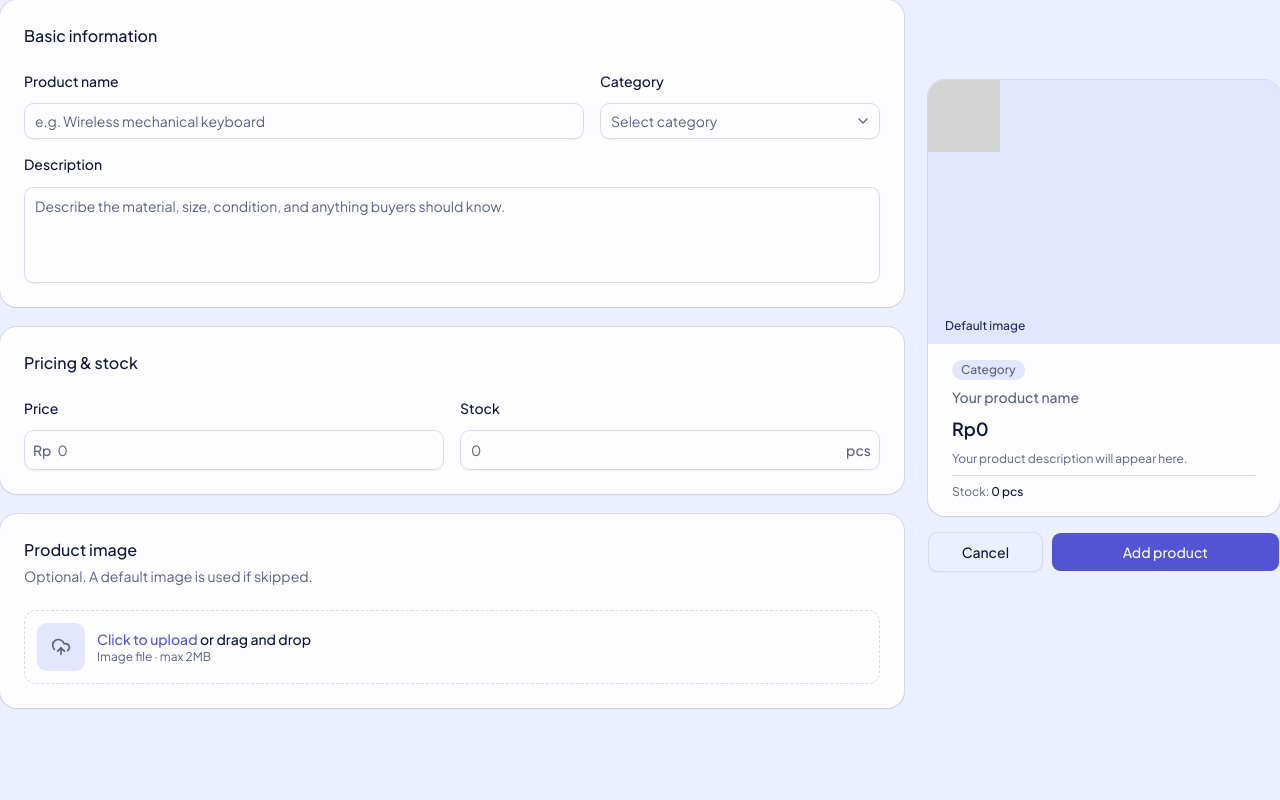
ProductForm: tambah produk › menolak nama dengan 5 karakter
Type "abcde" into the field labelled "Product name".
click(304, 121); type("abcde")  # box top-left (24, 103), bottom-right (584, 139)
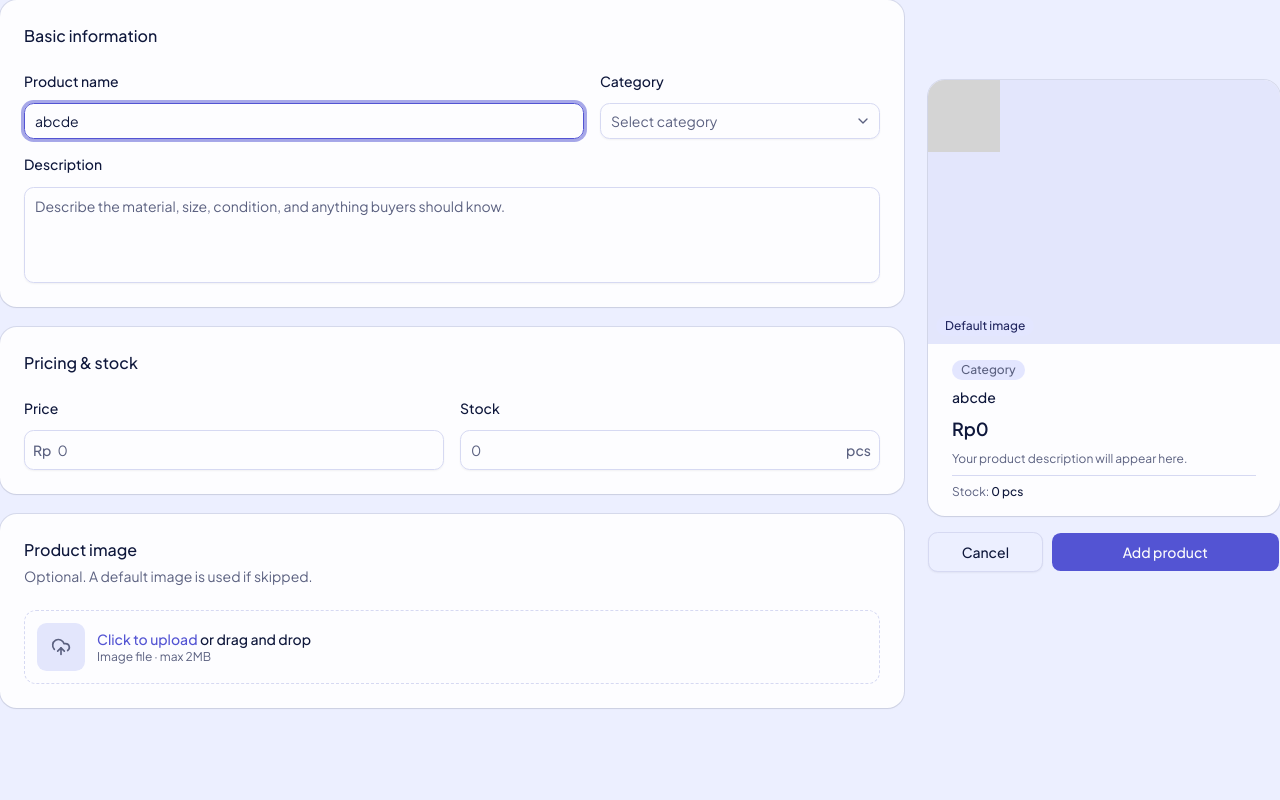
Click the button "Add product".
click(1165, 552)  # box top-left (1051, 532), bottom-right (1279, 572)
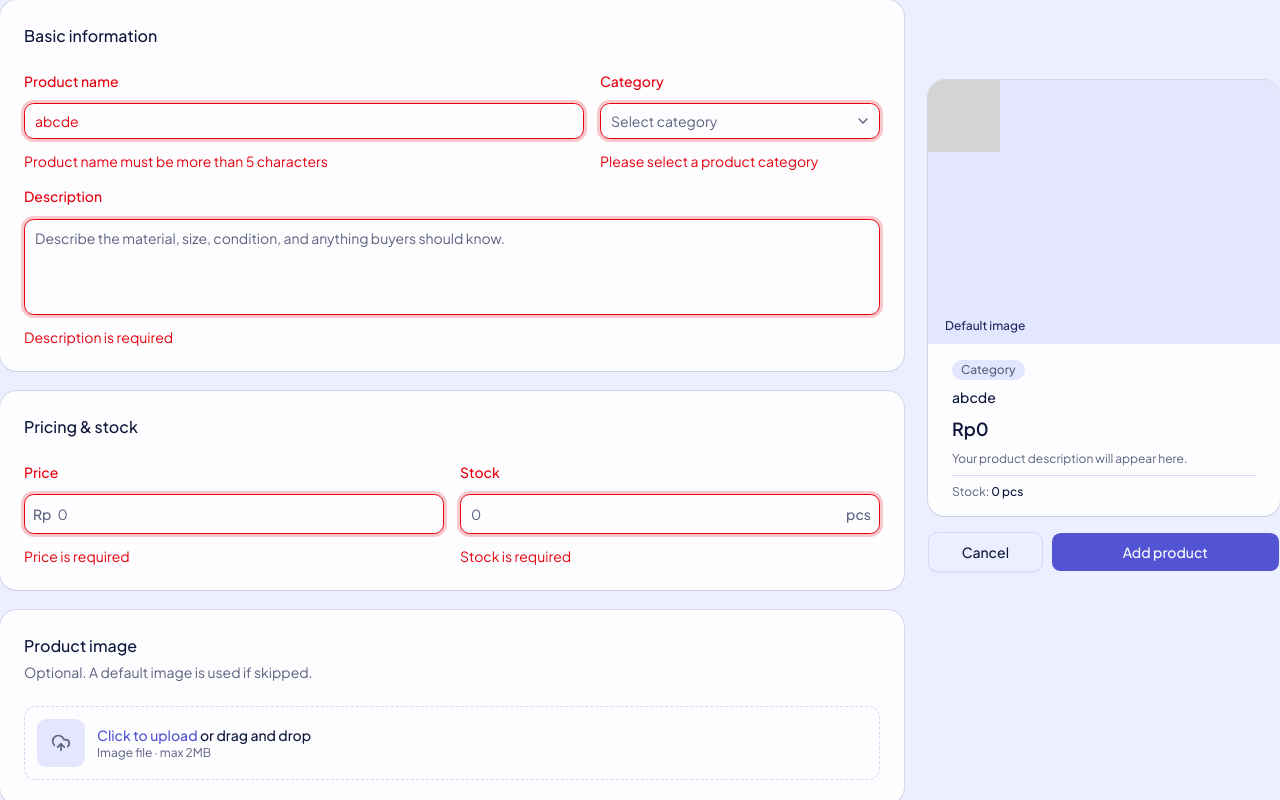
Check: the text "Product name must be more than 5 characters" is shown, box top-left (24, 152), bottom-right (328, 170)
